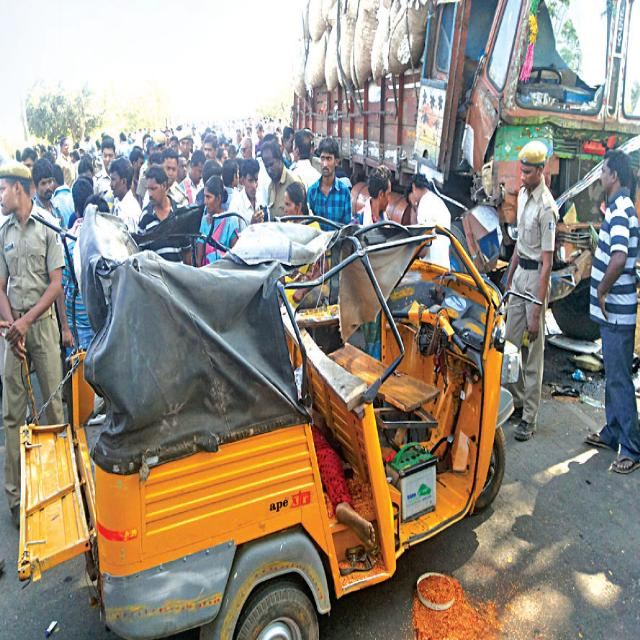accident: (20, 205, 510, 638), (292, 0, 640, 258)
